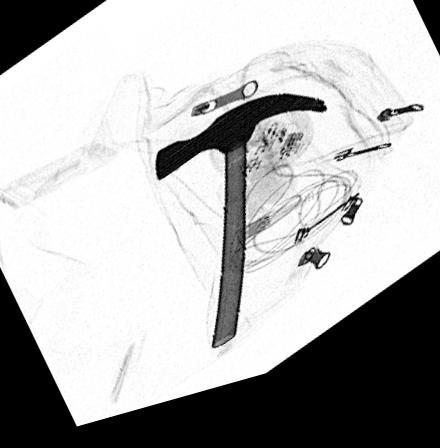Hammer: (153, 108, 325, 360)
